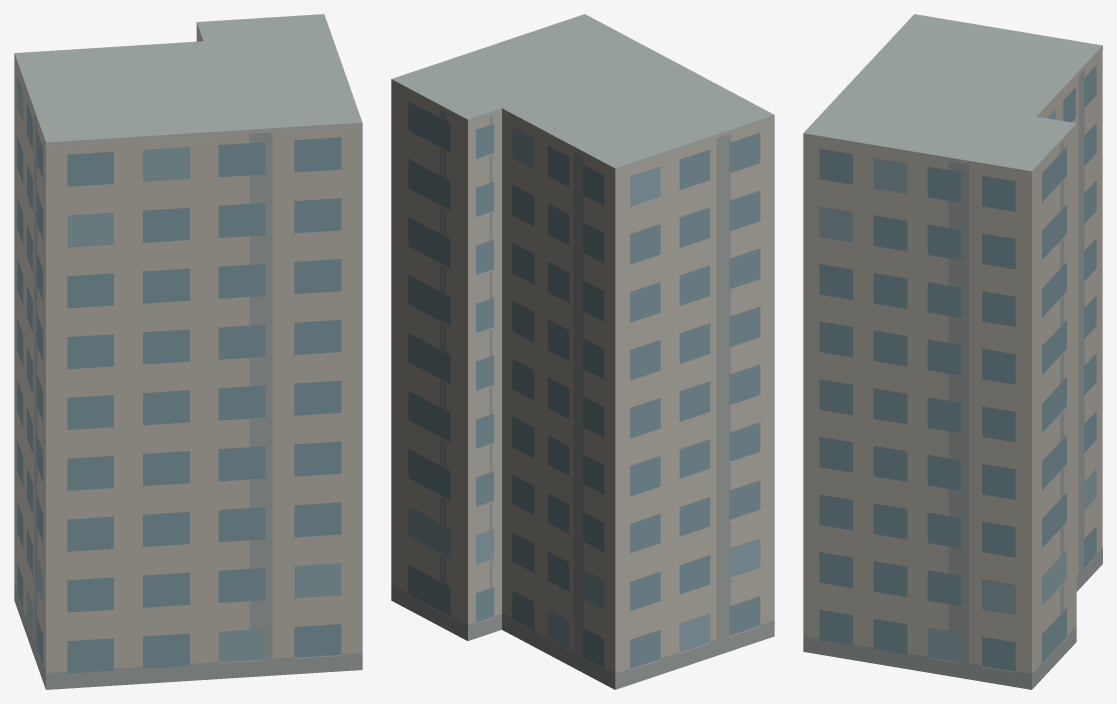
File: residential-61f23d3f-d6b4-4839-9cf9-a544f8bcb4fc.glb
3 views of the same model, side by side, from view 1: azimuth 30°, elevation 25°; view 2: azimuth 150°, elevation 25°; view 3: azimuth 270°, elevation 25° (orthographic). The views are drawn at different scales.
Parts seen in each view (by area): view 1: residential-61f23d3f-d6b4-4839-9cf9-a544f8bcb4fc.tmp; view 2: residential-61f23d3f-d6b4-4839-9cf9-a544f8bcb4fc.tmp; view 3: residential-61f23d3f-d6b4-4839-9cf9-a544f8bcb4fc.tmp.
Boxes of the visible parts, x1=… form: residential-61f23d3f-d6b4-4839-9cf9-a544f8bcb4fc.tmp: x1=14, y1=14, x2=362, y2=689; residential-61f23d3f-d6b4-4839-9cf9-a544f8bcb4fc.tmp: x1=391, y1=14, x2=774, y2=689; residential-61f23d3f-d6b4-4839-9cf9-a544f8bcb4fc.tmp: x1=803, y1=14, x2=1102, y2=689.
Bounding box in the file's own units: 20.18 × 31 × 16.24.
